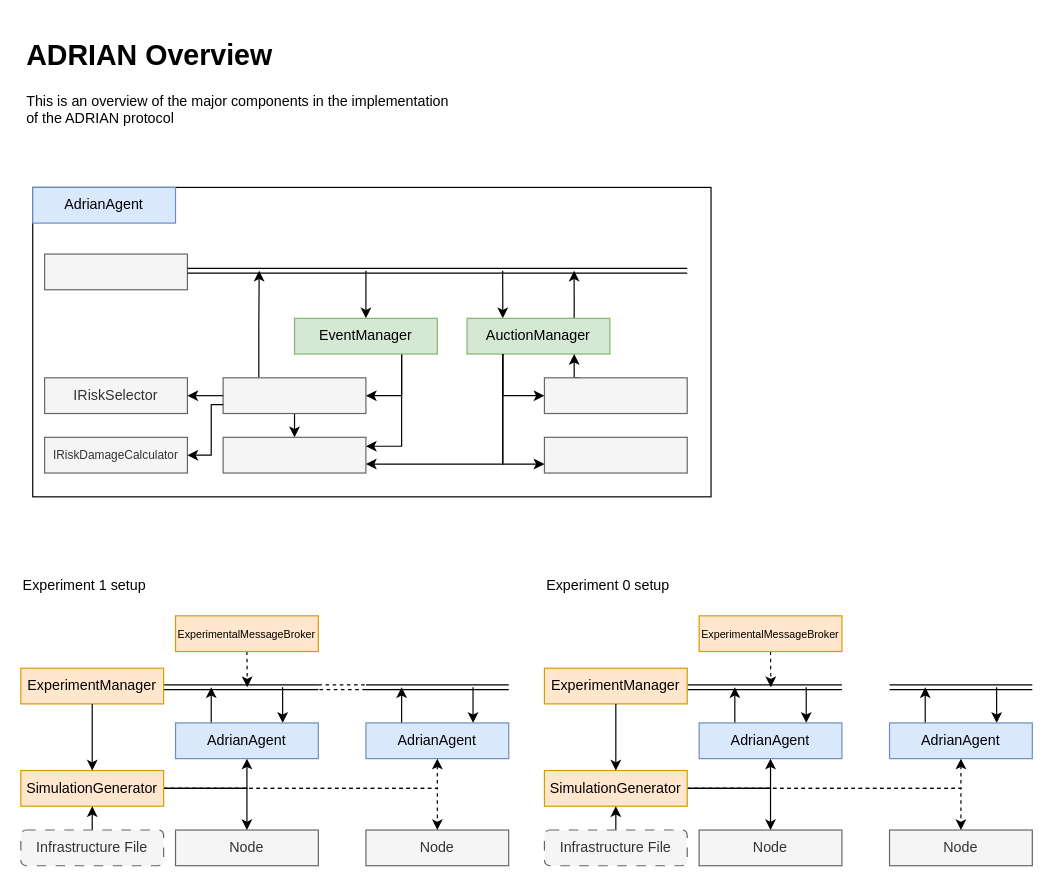
Some shapes in this 1053 by 887 pixel diagram are drawn without their labels. Each missing label, with the box of its shape:
IKnowledgeBase: (222, 436, 366, 473)
IMessageBroker: (43, 253, 187, 290)
IProposalGenerator: (543, 436, 687, 473)
IProposalSelector: (543, 377, 687, 414)
IRiskDetector: (222, 377, 366, 414)
